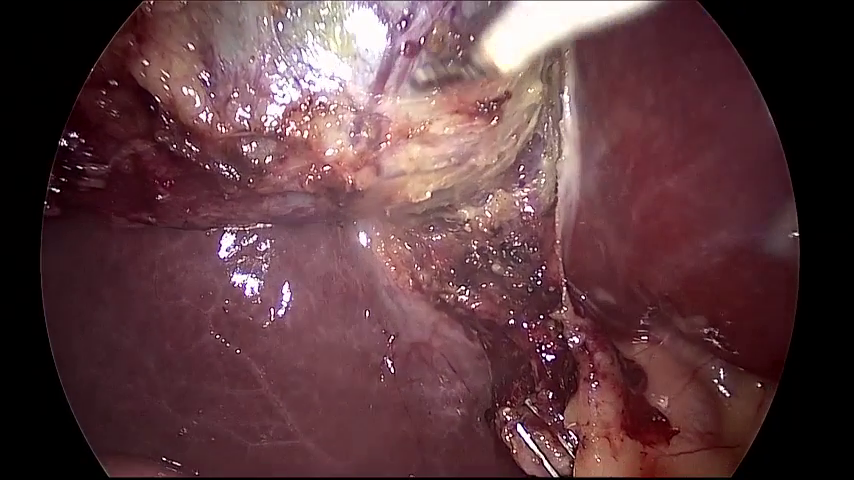lhook: (413, 1, 652, 92)
